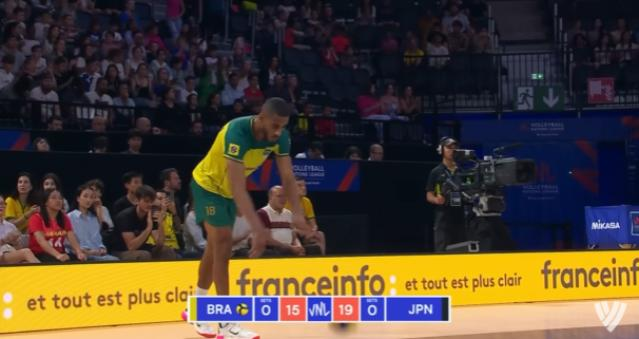bola: (319, 288, 367, 338)
